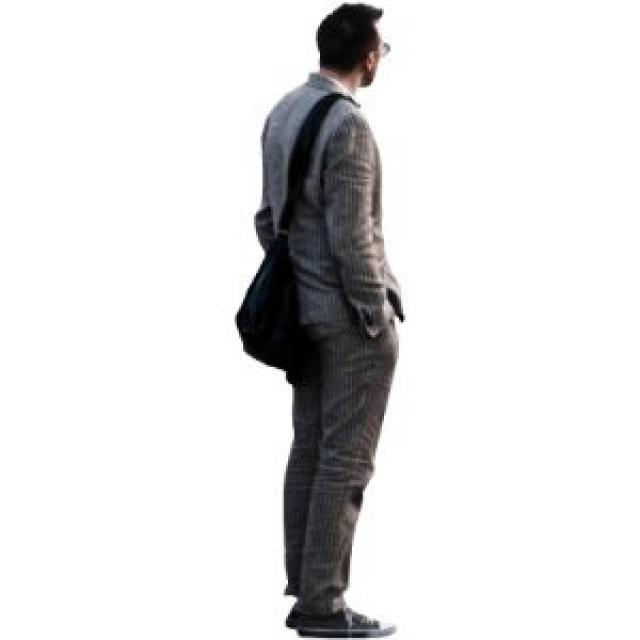adult: (226, 0, 437, 640)
